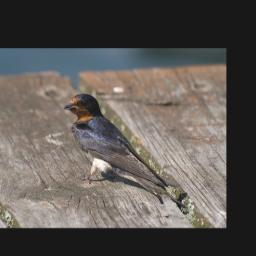Swallow: (63, 93, 188, 210)
